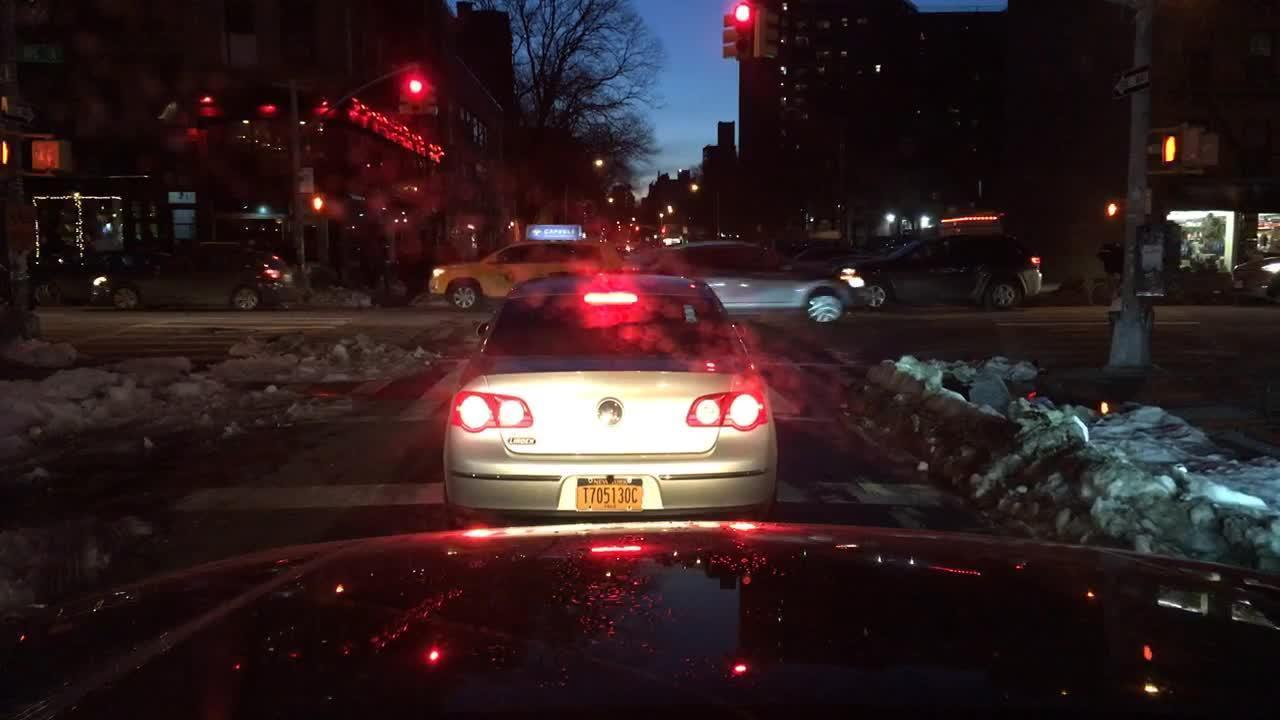Volkswagen: (587, 390, 634, 436)
